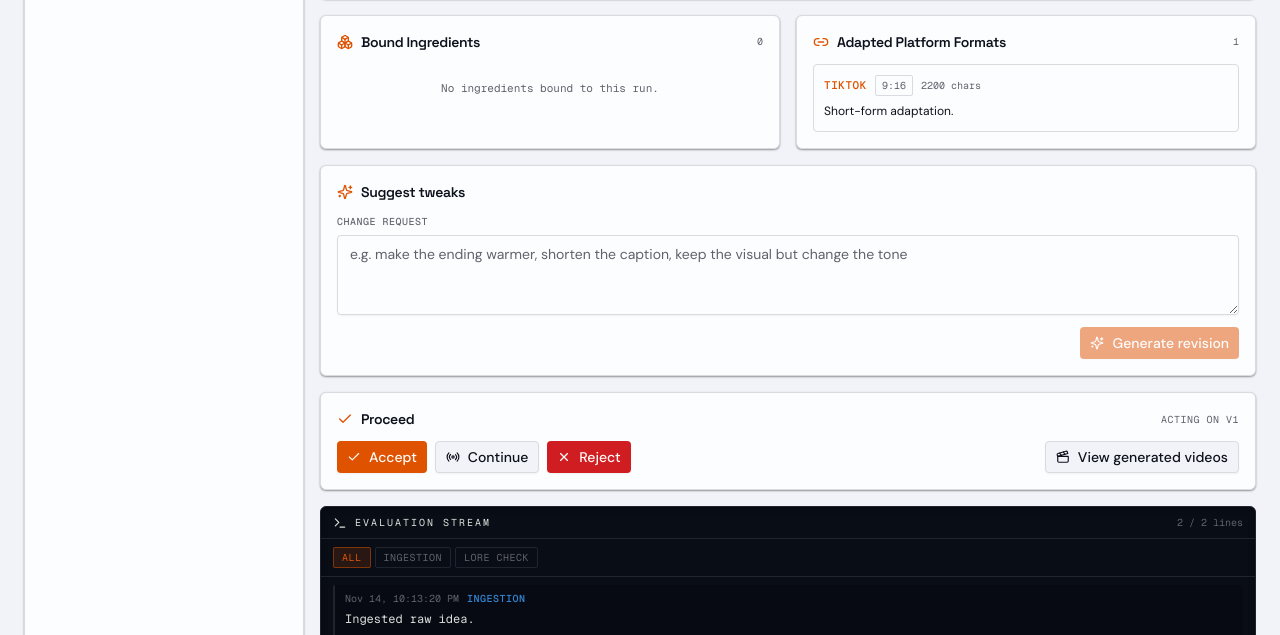
Test: SimulationPage › submits a tweak and displays the new revision in place
(page scrolled)
Type "Make the ending warmer." into the text box with test id "simulation.tweak.input".
click(788, 275); type("Make the ending warmer.")  # box [337,235,1239,315]
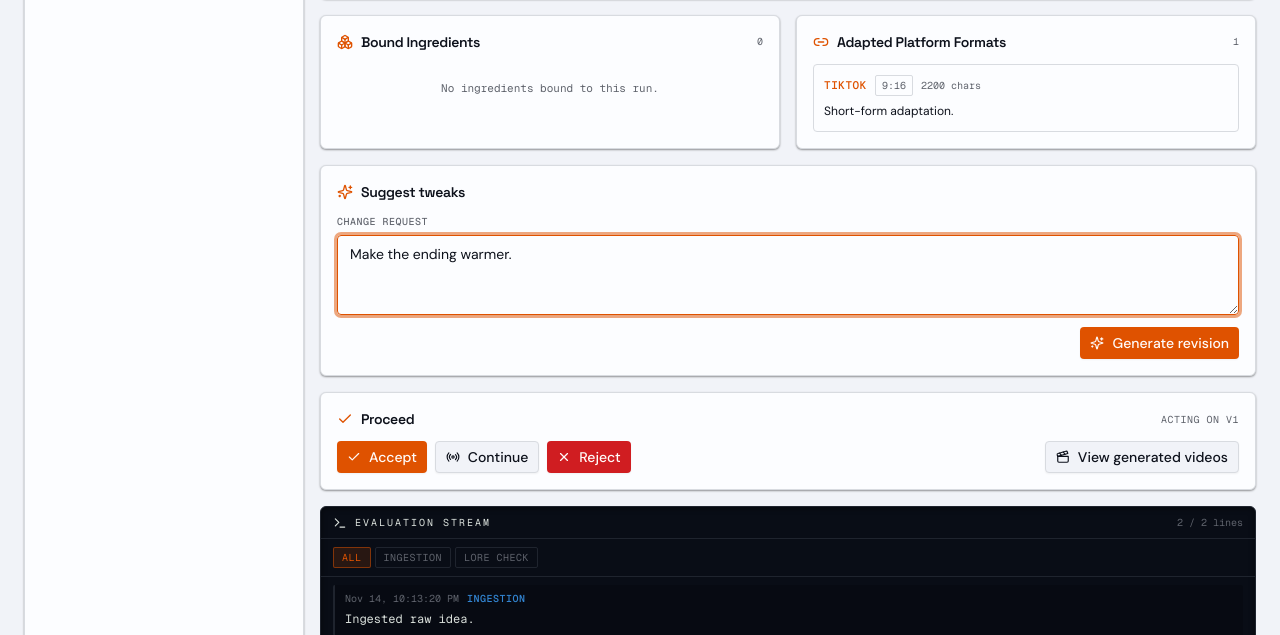
Click the button with test id "simulation.tweak.submit_button".
click(1160, 343)  # box [1080,327,1239,359]
(page scrolled)
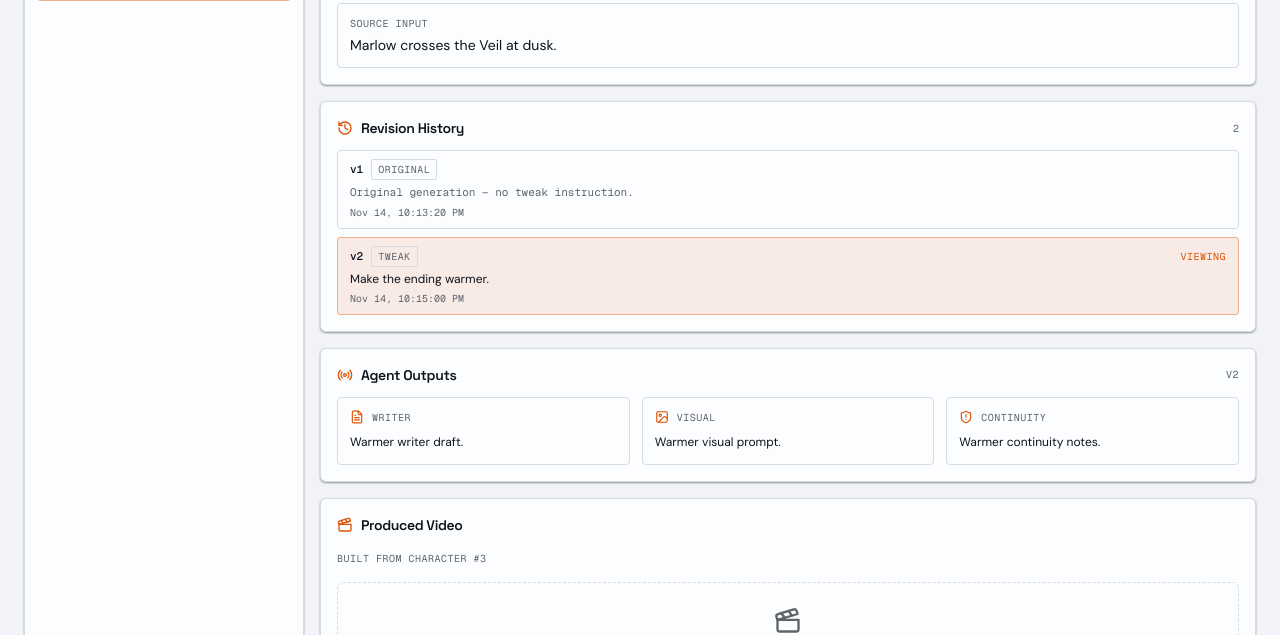
expect the text "Warmer writer draft." is shown: met, box [350,434,463,450]
expect the button with test id "simulation.revisions.item" shows "Make the ending warmer.": met, box [337,236,1239,314]
